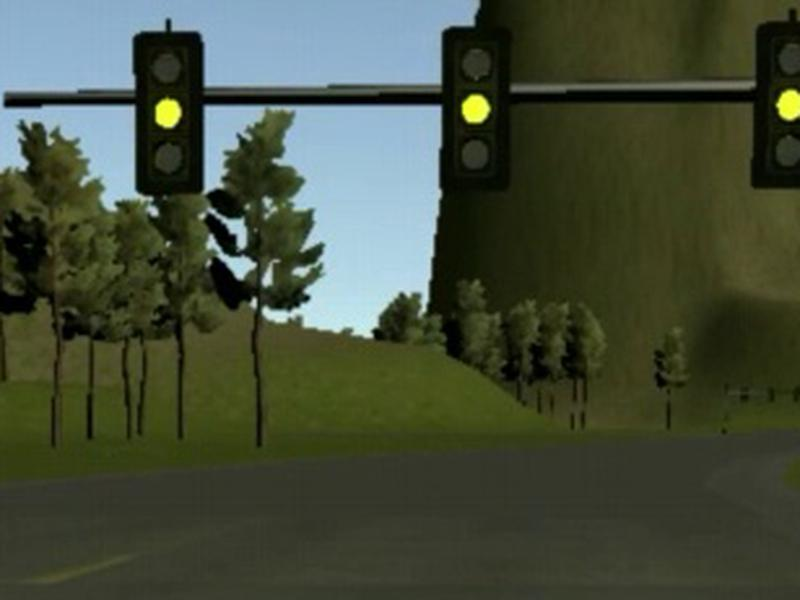Yellow: (132, 32, 205, 194), (439, 26, 511, 190), (749, 20, 800, 189)
